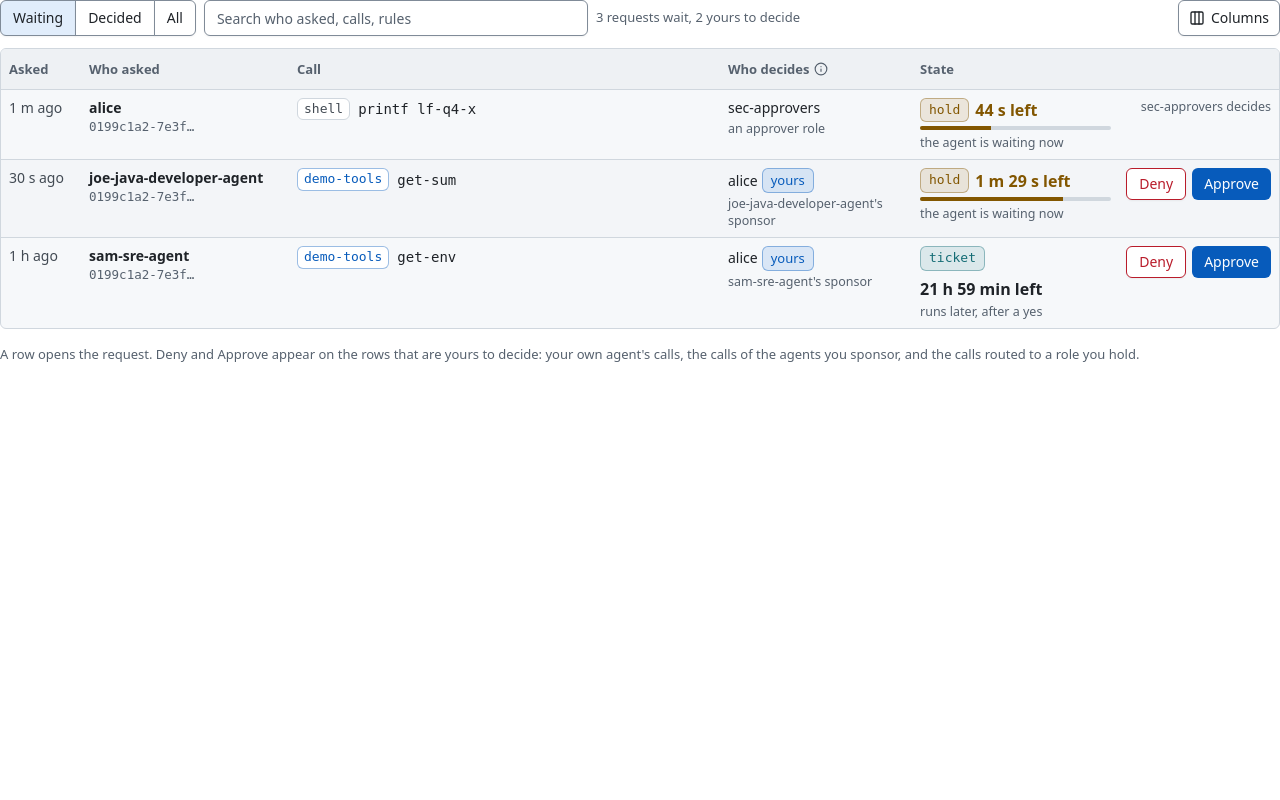
Test: the self-service requests tab › retries a refused challenge exactly once, with the fresh nonce and never with the key in doubt
The width and height of the screenshot is (1280, 800).
Expected: the button with aria-label "Open get-sum for joe-java-developer-agent" is shown, [1, 160, 1279, 238]
What coordinates should you click on to do the following:
click the button with aria-label "Deny get-sum for joe-java-developer-agent"
I would click on:
 (1156, 184)
Its box is [1126, 168, 1186, 200].
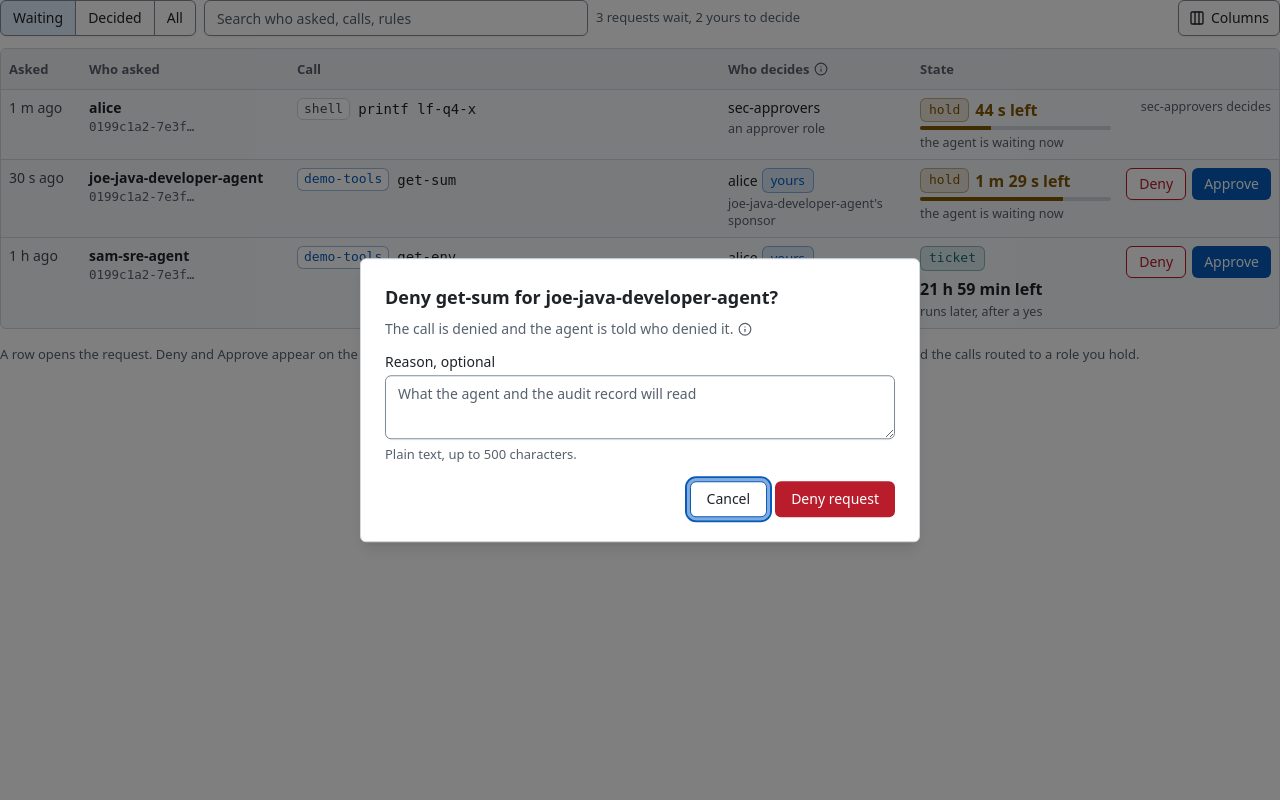
What coordinates should you click on to do the following:
click the button "Deny request"
I would click on:
 (835, 499)
Its box is [775, 481, 895, 517].
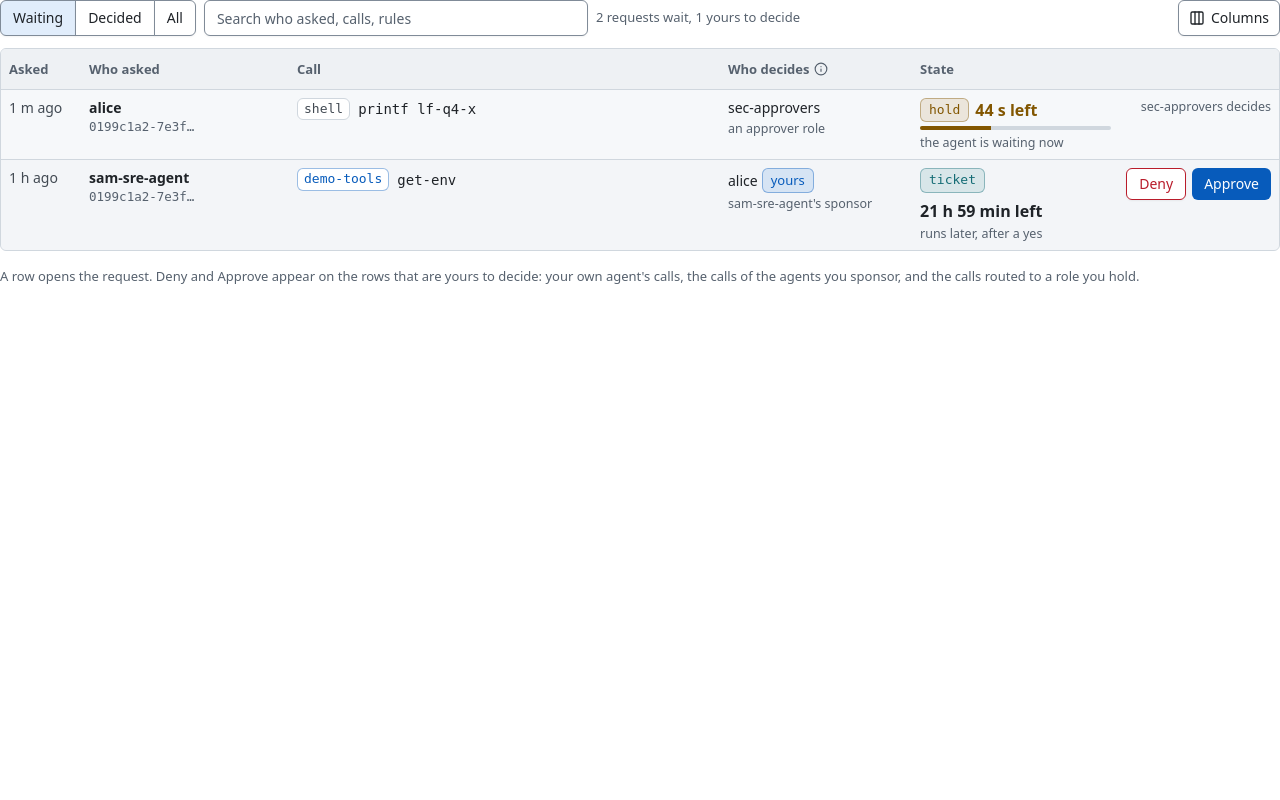
Now the dialog is gone
